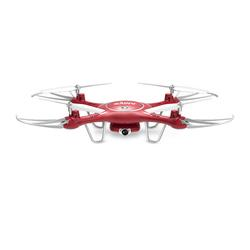drone: (13, 80, 235, 144)
